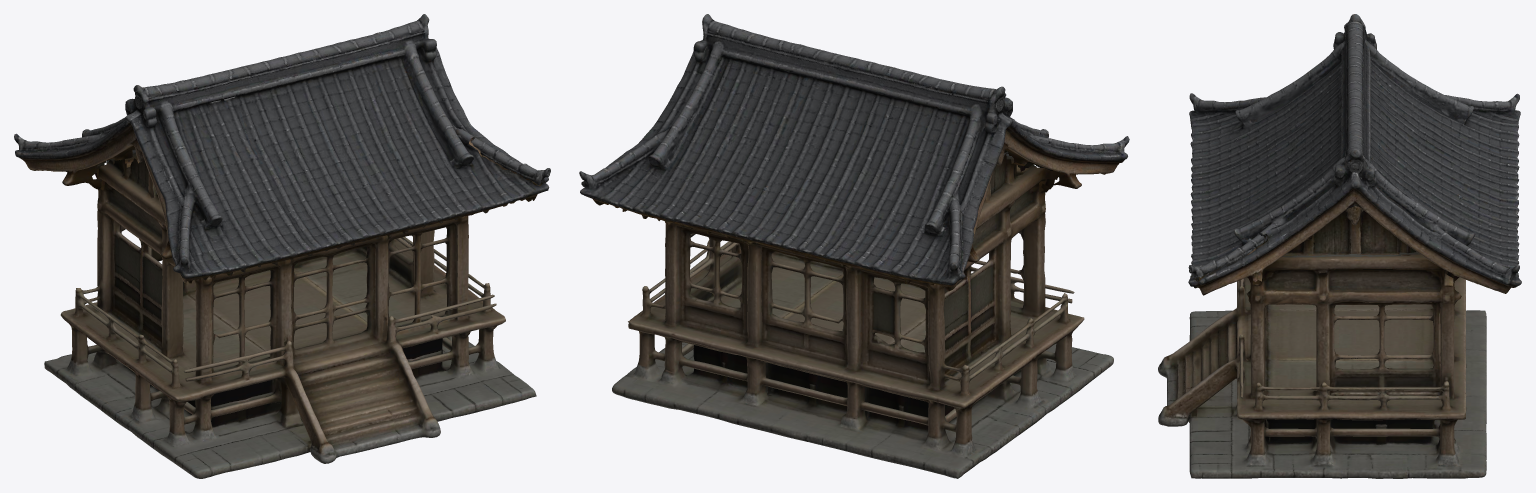
The model's file is stage-2-temple.glb.
3 renders of one model, left to right at view 1: azimuth 30°, elevation 25°; view 2: azimuth 150°, elevation 25°; view 3: azimuth 270°, elevation 25°, orthographic. The views are drawn at different scales.
Visible parts, largest first — view 1: tripo_part_1, tripo_part_0, tripo_part_3; view 2: tripo_part_1, tripo_part_0; view 3: tripo_part_1, tripo_part_0, tripo_part_3.
Part boxes in pixels (x1,y1,x2,y2): tripo_part_1: [44, 158, 536, 478]; tripo_part_0: [14, 14, 549, 283]; tripo_part_3: [470, 137, 550, 184]; tripo_part_1: [612, 153, 1113, 478]; tripo_part_0: [579, 14, 1129, 291]; tripo_part_1: [1158, 235, 1486, 478]; tripo_part_0: [1188, 14, 1521, 295]; tripo_part_3: [1188, 233, 1267, 280].
Bounding box in the file's own units: 0.9976 × 0.8338 × 0.8652.
Materials: 4 (4 with a texture image).
